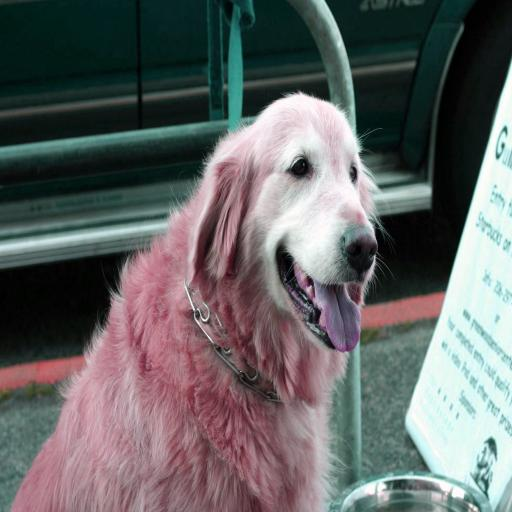dog_face: (204, 96, 374, 378)
